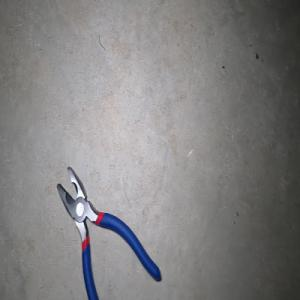Pliers: (56, 166, 161, 300)
